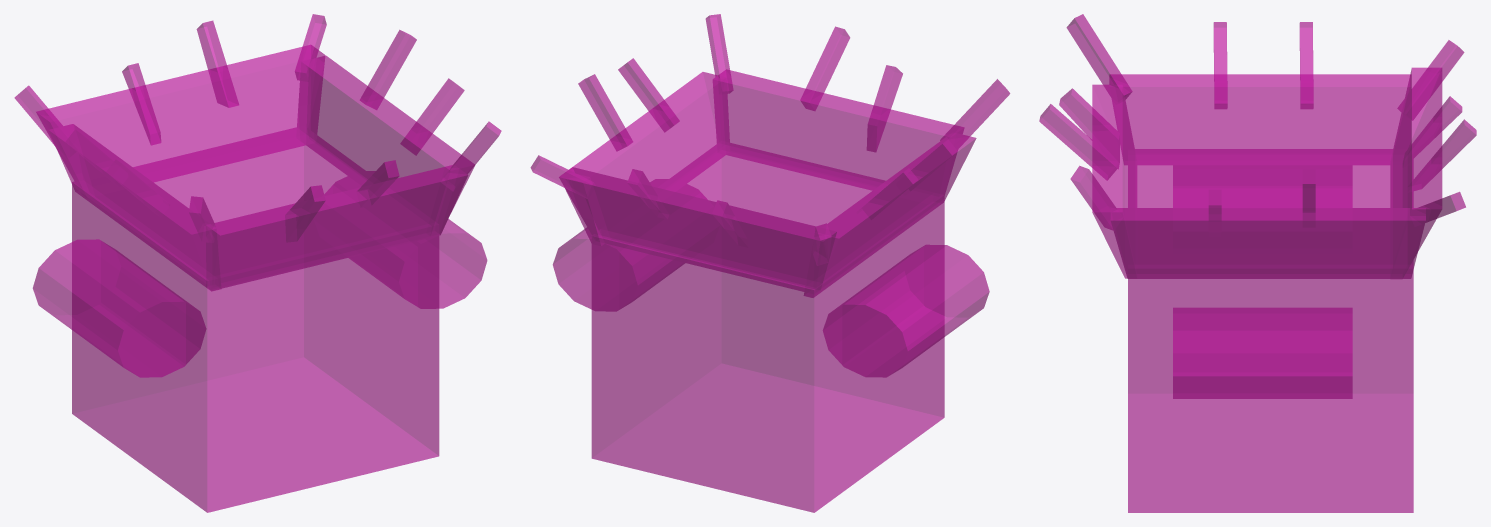
Rendered from SM_Prop_Shredder_01_Collision.fbx.
The picture shows the model from 3 angles, left to right: view 1: azimuth 30°, elevation 25°; view 2: azimuth 150°, elevation 25°; view 3: azimuth 270°, elevation 25°; orthographic projection. The views are drawn at different scales.
Parts seen in each view (by area): view 1: SM_Prop_Shredder_01_Collision; view 2: SM_Prop_Shredder_01_Collision; view 3: SM_Prop_Shredder_01_Collision.
Part boxes in pixels (x1=…): SM_Prop_Shredder_01_Collision: x1=14, y1=14, x2=501, y2=512; SM_Prop_Shredder_01_Collision: x1=530, y1=14, x2=1009, y2=512; SM_Prop_Shredder_01_Collision: x1=1039, y1=14, x2=1476, y2=512.
Bounding box in the file's own units: 726 × 656 × 705.
